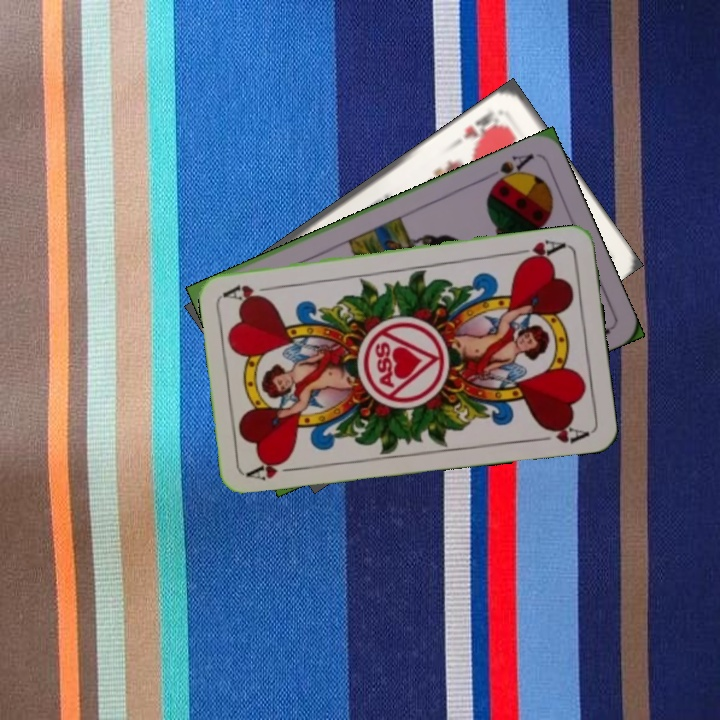HA: (510, 235, 569, 265), (244, 453, 303, 483)
HK: (459, 106, 505, 146)
SA: (486, 149, 537, 191)
